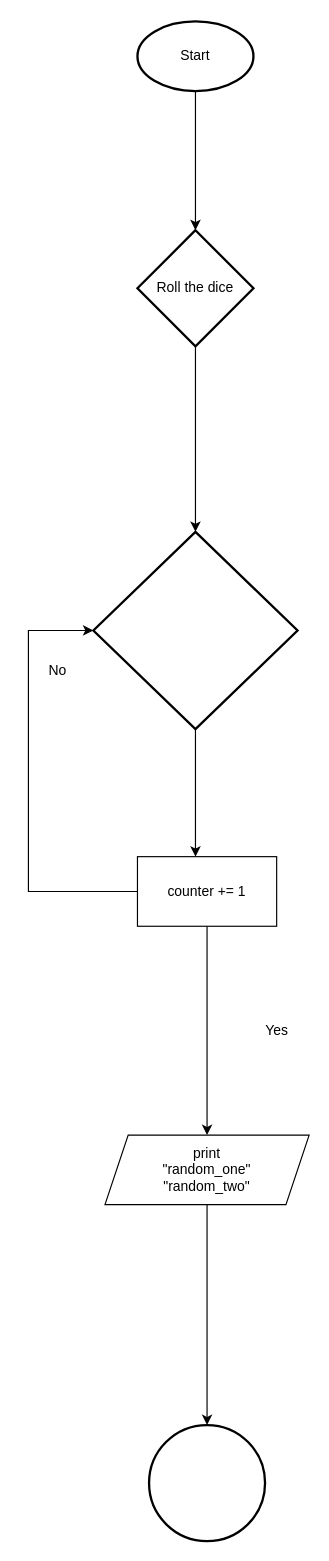
This 329x1561 diagram has some shape labels left out. The centre of each missing label's shape, as x and y in pixels:
"if random one == random two" goes at point (195, 630).
"Stop" goes at point (206, 1482).
